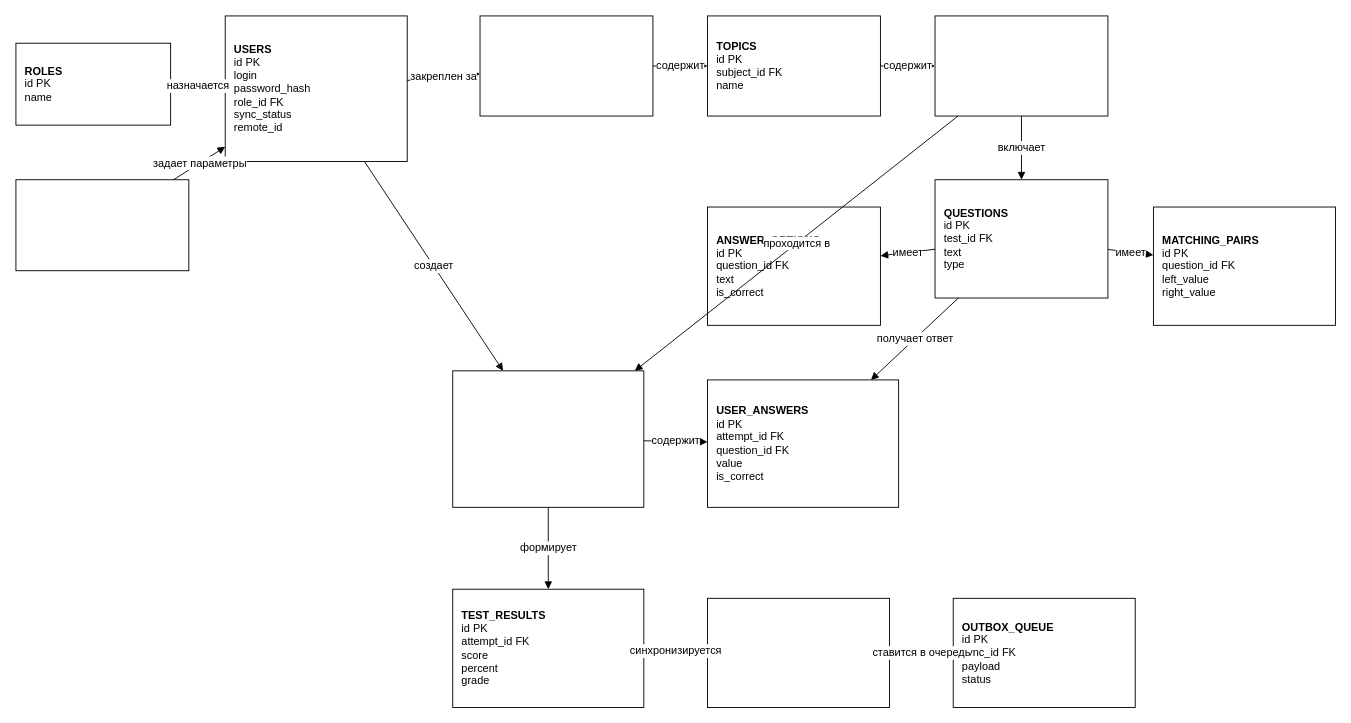
Image size: 1351x723. Some labels were removed from this diagram. The box of each missing label's shape, as (x1, y1, x2, y2) in pixels:
CONFIG_SETTINGS id PK name value: (15, 179, 189, 271)
RESULT_SYNC id PK result_id FK status synced_at: (707, 597, 890, 708)
SUBJECTS id PK name description: (479, 15, 653, 116)
TEST_ATTEMPTS id PK user_id FK test_id FK started_at finished_at status: (452, 370, 644, 507)
TESTS id PK topic_id FK title: (934, 15, 1108, 116)
